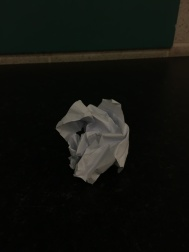paper_white: (58, 87, 141, 193)
